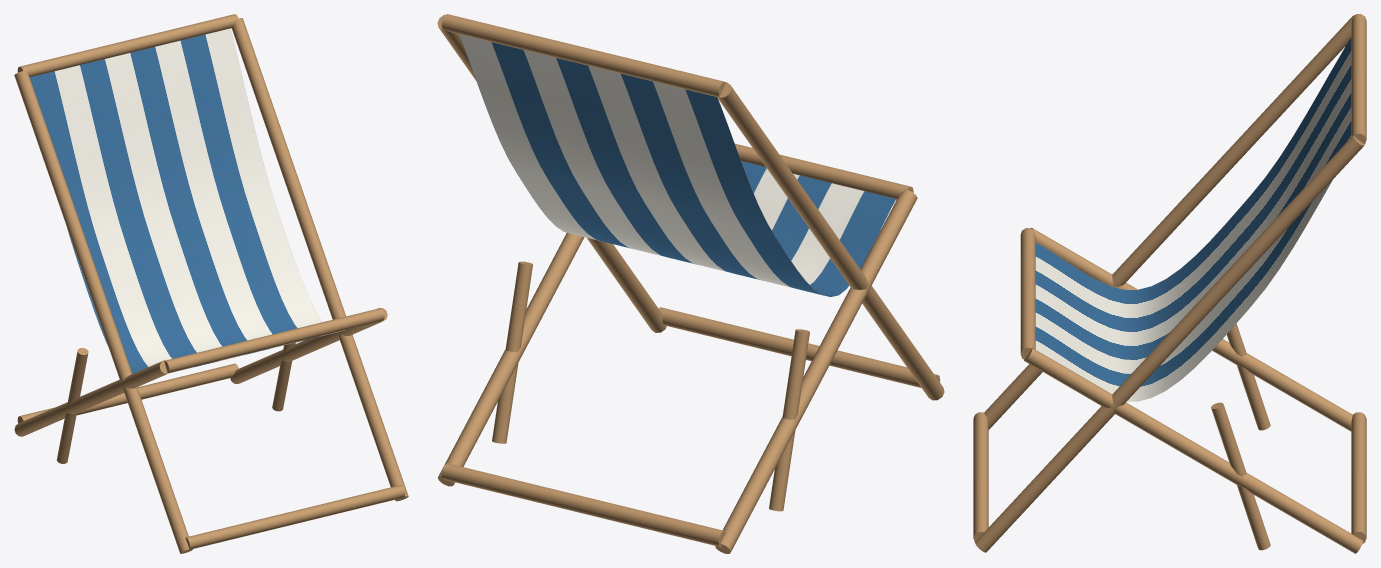
File: p-sdraio.glb
The picture shows the model from 3 angles, left to right: view 1: azimuth 30°, elevation 25°; view 2: azimuth 150°, elevation 25°; view 3: azimuth 270°, elevation 25°; orthographic projection. The views are drawn at different scales.
Size of the model in its own units: 0.6324 by 0.9795 by 0.832.
2 materials, 1 textured.
